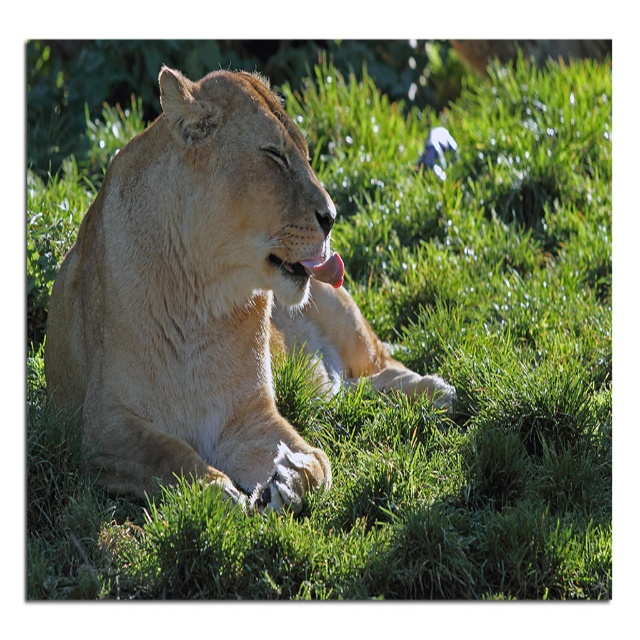Lion: (44, 59, 462, 519)
